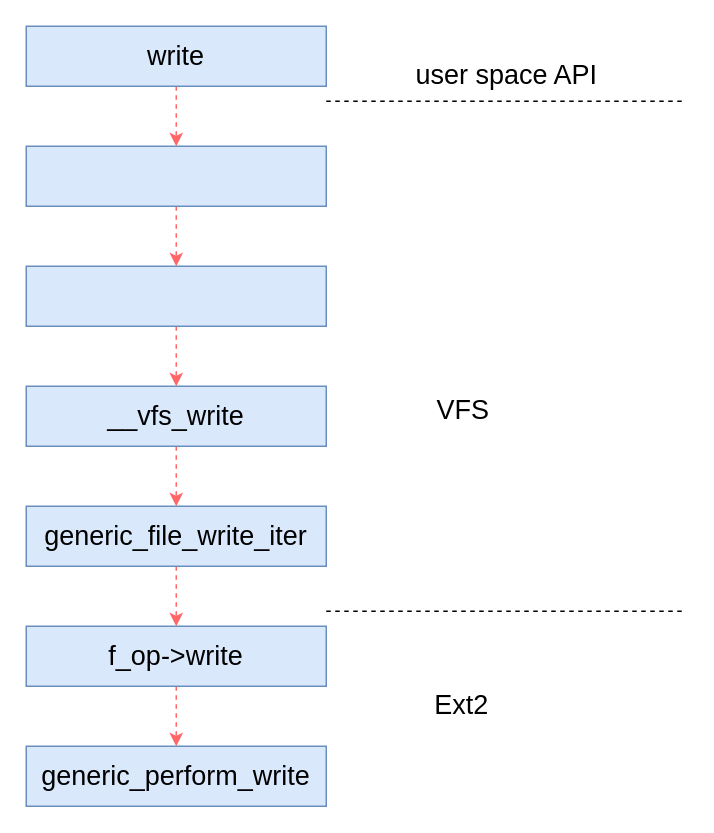
Image size: 714x833. Some labels were removed from this diagram. Each missing label, with the centre of its shape:
"sys_write" belongs at [175,175].
"vfs_write" belongs at [175,295].
